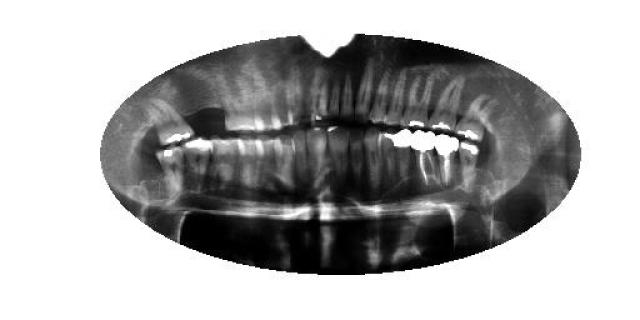Fillings: (147, 96, 195, 144), (430, 75, 466, 130), (400, 72, 431, 128), (184, 138, 211, 192), (457, 91, 485, 142), (158, 146, 182, 196), (458, 142, 480, 192), (396, 128, 414, 180)
Implant: (412, 130, 442, 188), (432, 134, 458, 185)
